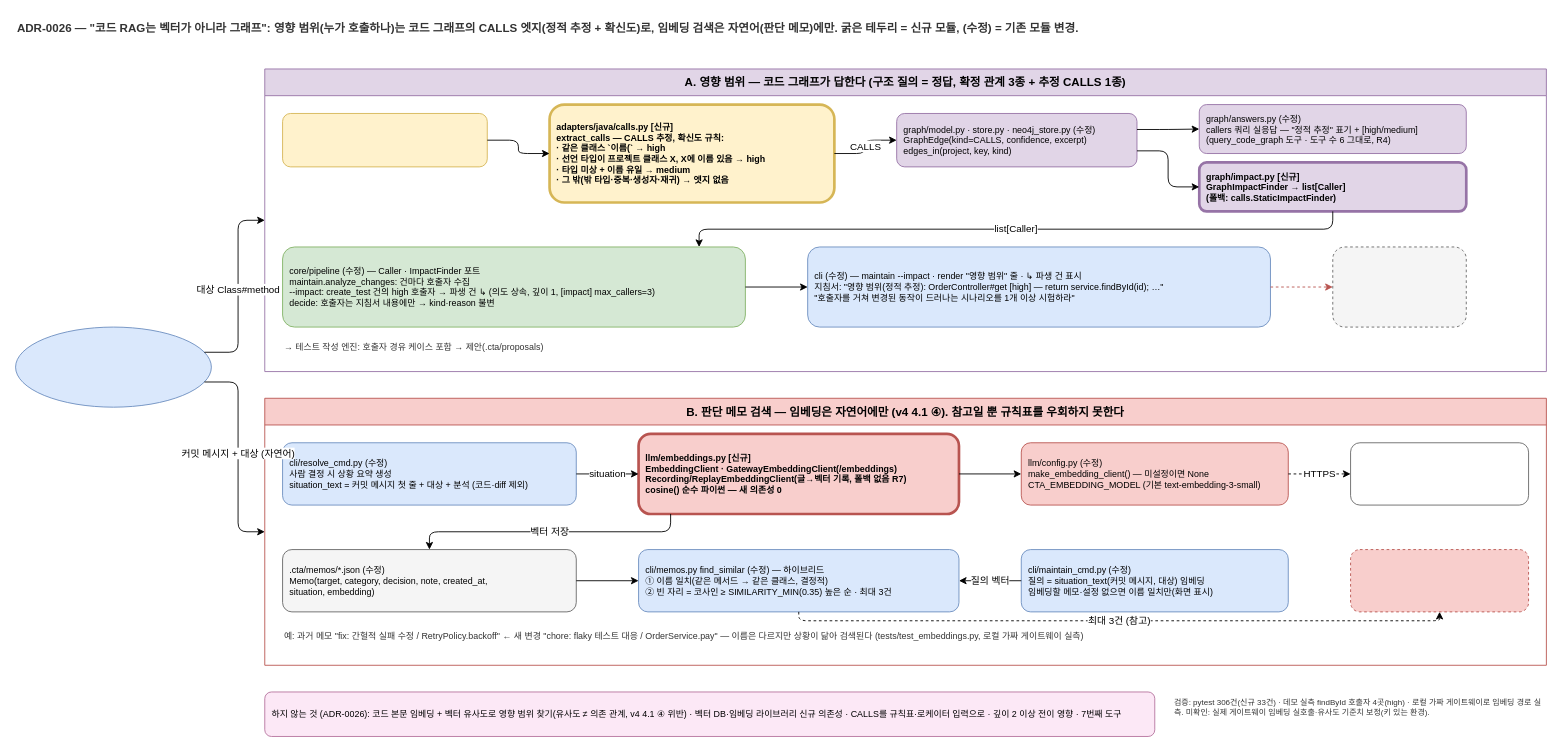
Image size: 1562x752. Some labels were removed from this diagram. Here are the shapes that lost their labels. From the top down, the centre of each, then its label:
(384,140): adapters/java/graph_builder.py (수정) main 트리 클래스·메서드 파싱 → ClassSource
(1399,286): 규칙표 decide() (의도 × 테스트 상태) ✗ CALLS는 넣지 않는다 (R2)
(113,366): 변경된 메서드 (git diff → ChangedSymbol) 예: OrderService#findById
(1439,473): 사내 LLM 게이트웨이 /openai/deployments/{dep}/embeddings 주소·키는 .env로만
(1439,580): classify_intent 프롬프트 [비슷한 과거 판단 사례] 참고용 — decide()는 memos를 받지 않는다
